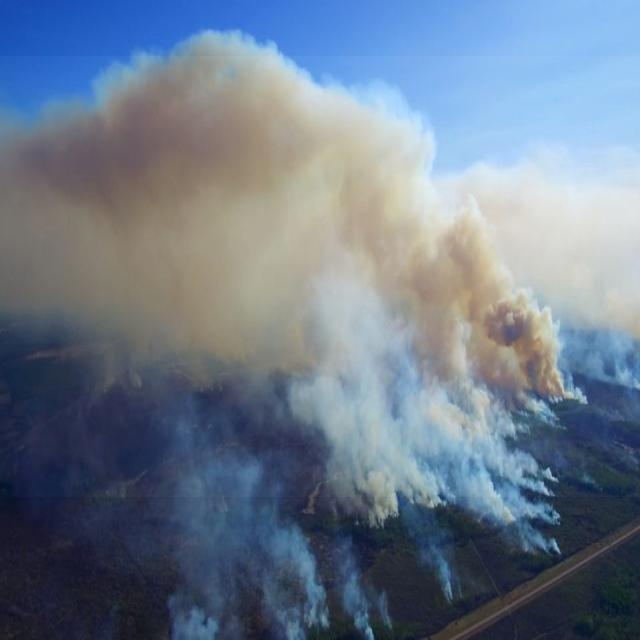Smoke: (0, 56, 640, 497)
